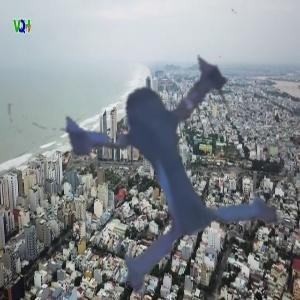drone: (19, 5, 300, 287)
